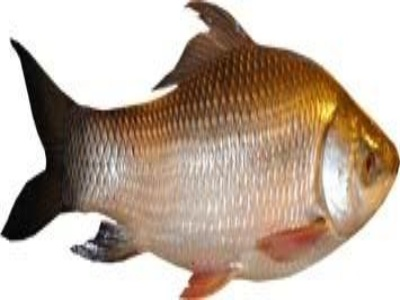rohu: (2, 6, 400, 295)
